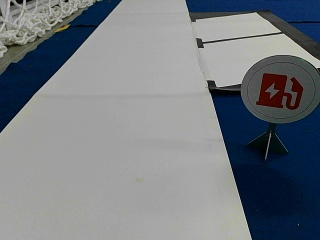battery: (239, 55, 315, 121)
